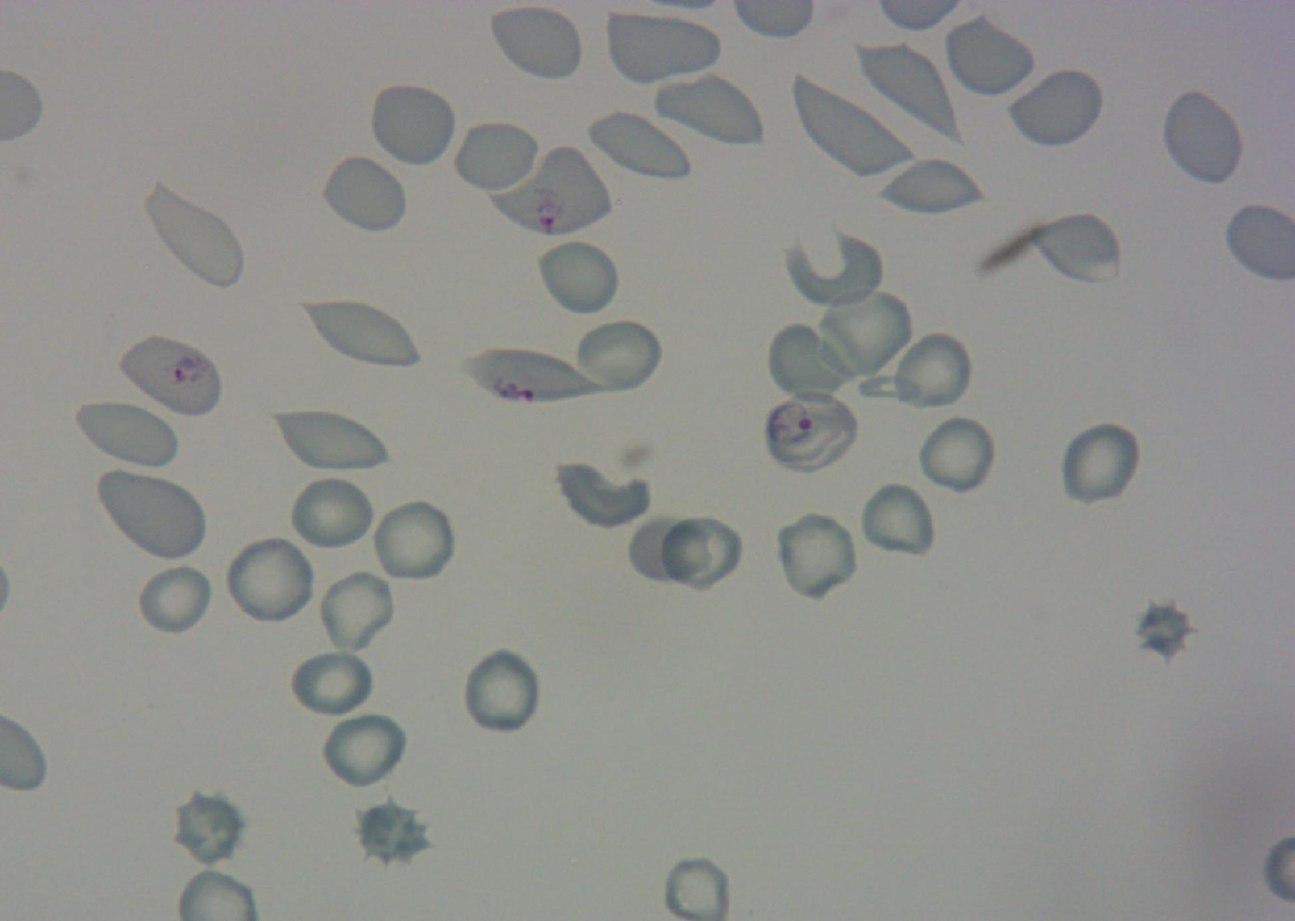Infected: (494, 143, 616, 238), (757, 386, 860, 475), (119, 334, 222, 420), (463, 348, 598, 406)
Uninfected: (787, 74, 923, 180), (850, 40, 961, 145), (149, 181, 248, 293), (95, 468, 205, 561), (814, 284, 916, 382), (652, 69, 765, 152), (602, 12, 727, 85), (222, 533, 318, 627), (1159, 87, 1246, 188), (305, 300, 427, 372), (69, 395, 183, 472), (550, 452, 655, 531), (941, 13, 1037, 99), (487, 1, 586, 84), (366, 80, 458, 169), (773, 511, 861, 603), (588, 110, 693, 186), (370, 499, 459, 586), (1057, 420, 1143, 509), (460, 646, 544, 737), (763, 320, 855, 402), (889, 328, 975, 415), (319, 709, 411, 790), (276, 410, 390, 475), (321, 153, 410, 235), (316, 567, 398, 656), (1026, 213, 1123, 288), (915, 413, 999, 498), (535, 237, 622, 318), (452, 117, 542, 194), (1011, 67, 1102, 141), (290, 473, 377, 550), (660, 518, 747, 593), (572, 320, 662, 392), (874, 157, 987, 214), (787, 234, 879, 304), (289, 647, 376, 721), (169, 791, 247, 870), (356, 798, 434, 869), (139, 563, 214, 635), (852, 485, 931, 551), (628, 513, 699, 584), (1133, 597, 1196, 661)
